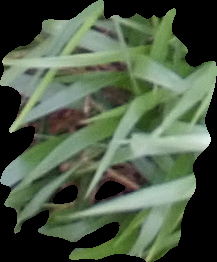grass: (1, 3, 216, 260)
